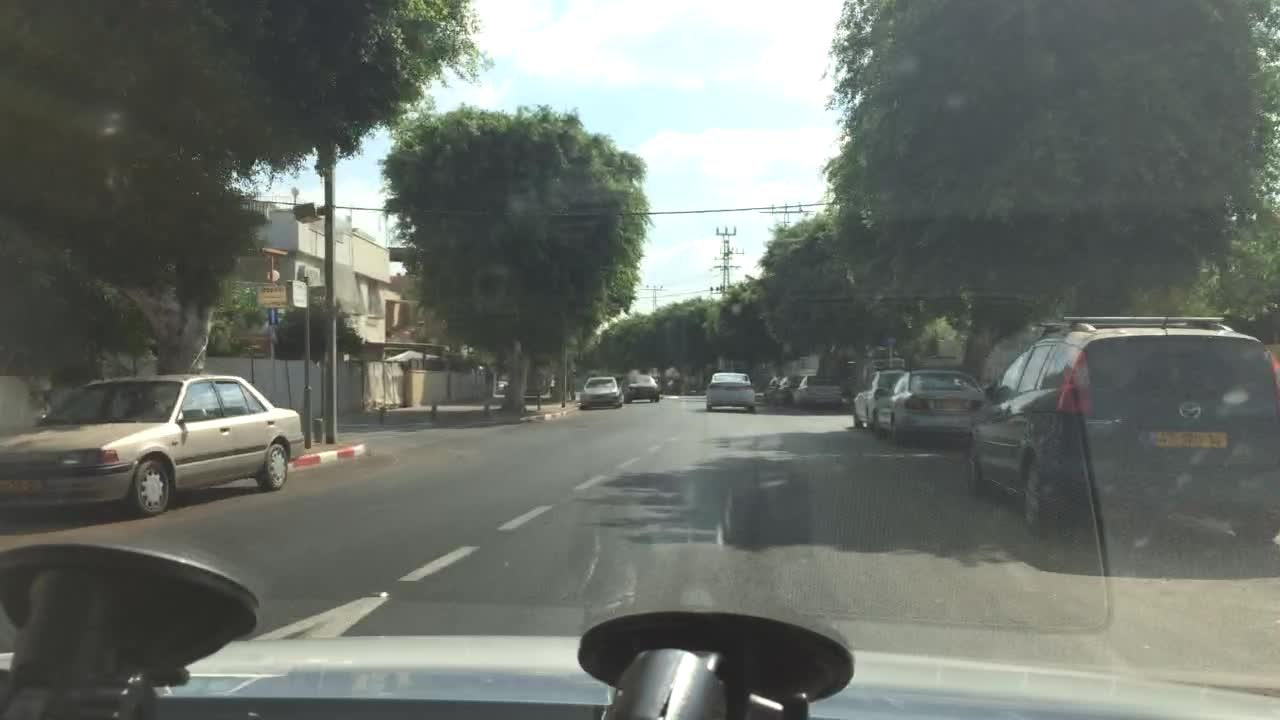Mazda: (1171, 399, 1213, 426)
